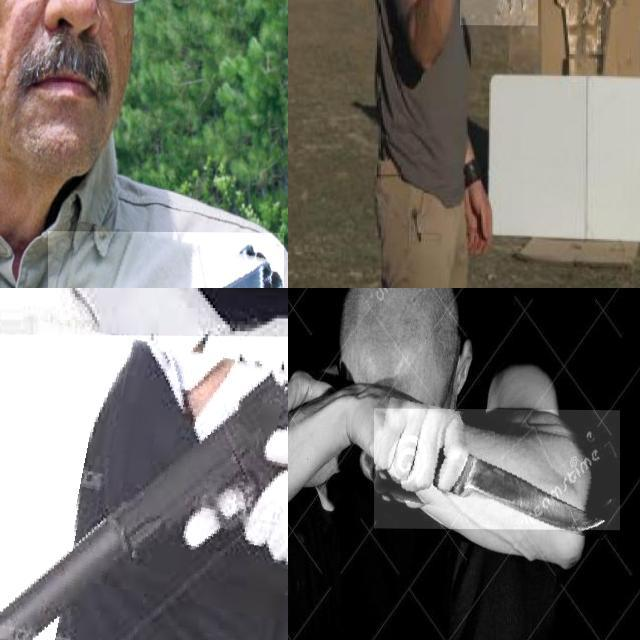-: (374, 408, 620, 529), (460, 0, 538, 84)
gun-knife-thesis - v11 Yolov5 augmented: (0, 334, 288, 640), (48, 230, 283, 288)
